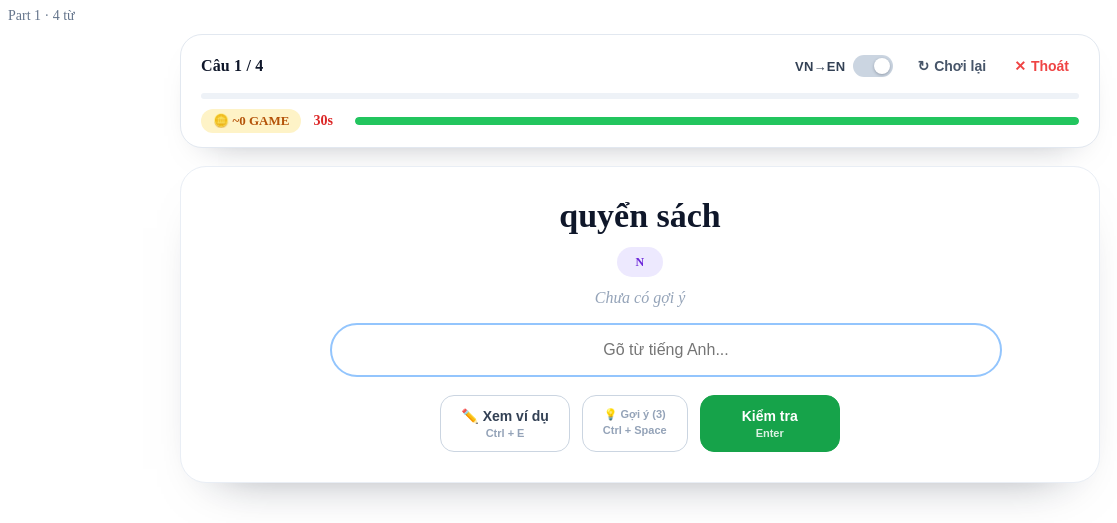
Scenario: vocab game page › typing tron thu tu tu thay vi di theo thu tu API
The image size is (1117, 523).
expect the text "quyển sách" is shown: met, box [559,197,721,235]
expect the text "quả táo" is not shown: met
Click the button "↻ Chơi lại": point(952, 66) [908,52,996,80]
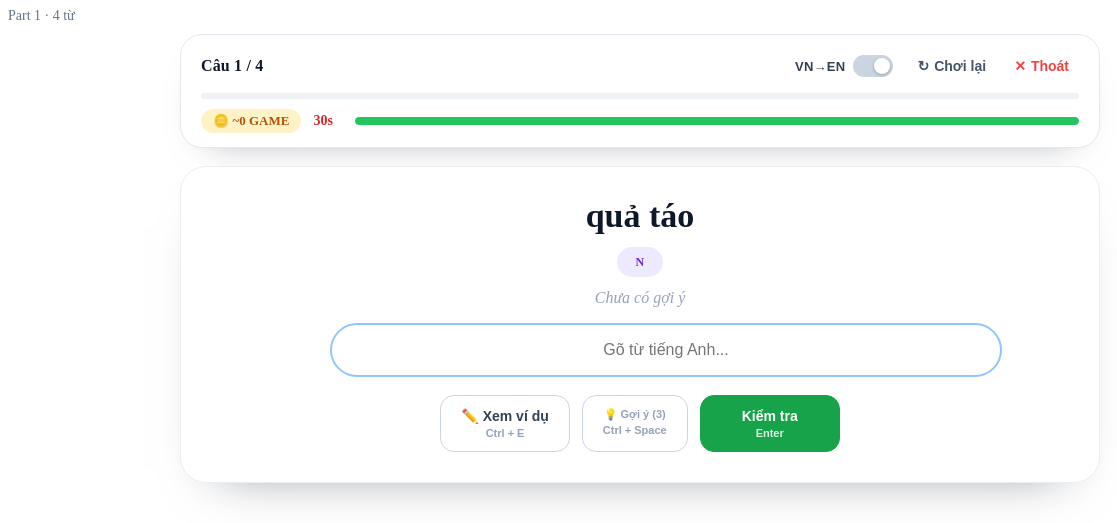
expect the text "quả táo" is shown: met, box [586,197,694,235]
